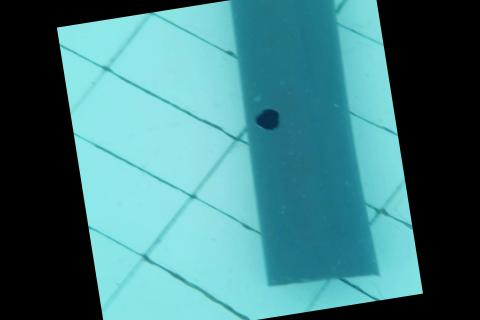kebocoran: (252, 104, 283, 132)
